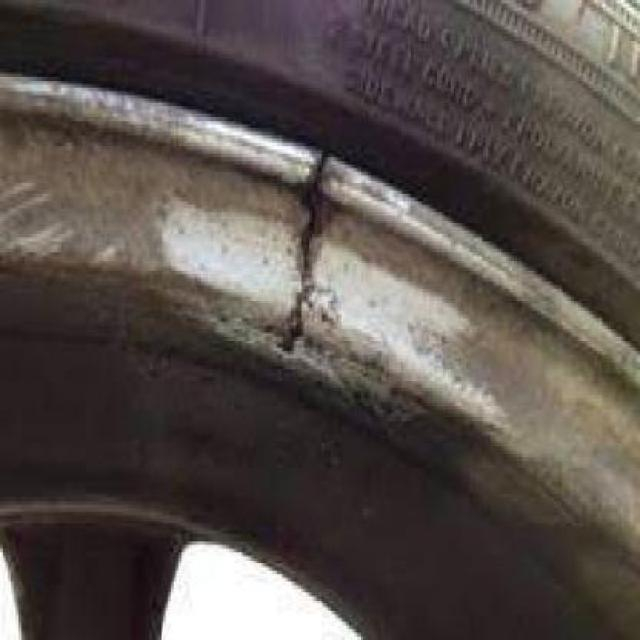Defect: (280, 132, 328, 359)
